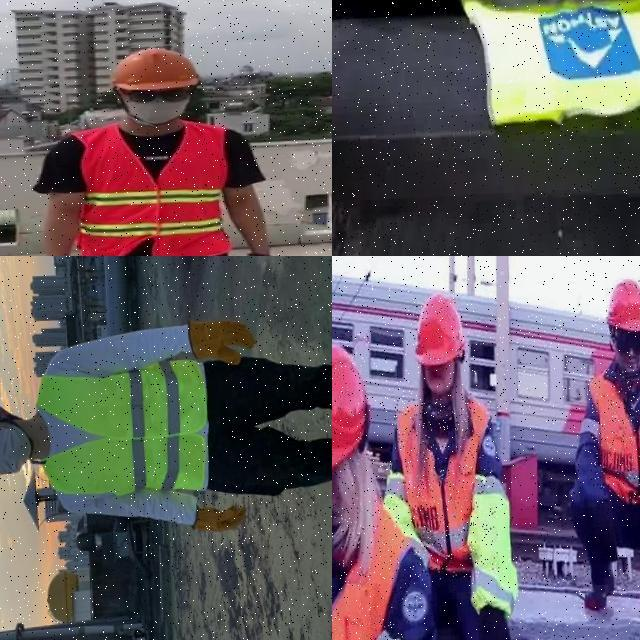helmet: (108, 44, 204, 94), (332, 344, 370, 470), (413, 295, 468, 365), (604, 280, 640, 334)
vest: (27, 358, 214, 500), (450, 0, 640, 130), (72, 123, 229, 256), (392, 392, 500, 582), (332, 491, 428, 640), (588, 365, 640, 504)
